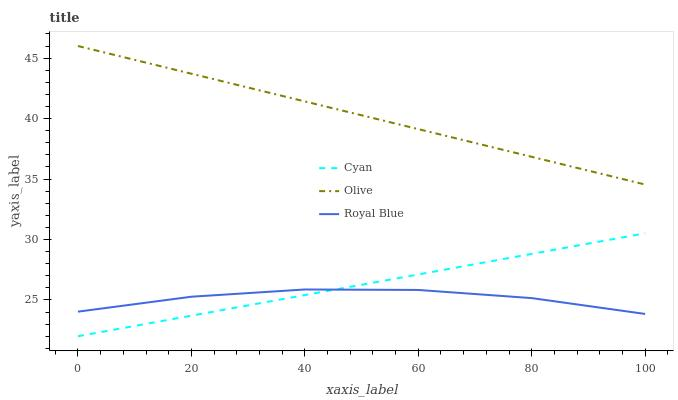axis: (57, 344, 678, 358), (42, 31, 55, 344)
legend: (309, 154, 416, 229)
line: (79, 44, 644, 187), (77, 231, 642, 339), (78, 287, 644, 316)
